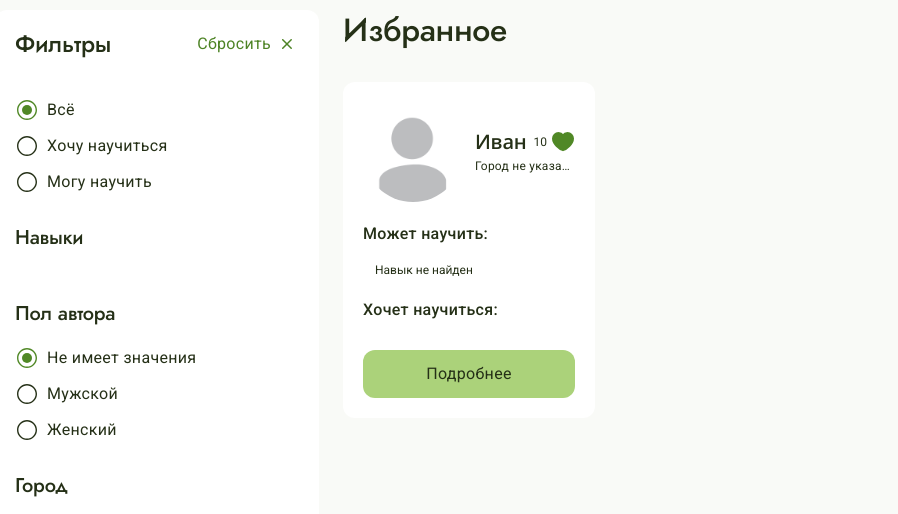
FavoritesPage › после снятия последнего лайка показывает пустое состояние и сохраняет изменение
What coordinates should you click on to do the following:
click the button named "Убрать из избранного"
I would click on:
 (563, 142)
Its box is [551,130,575,154].
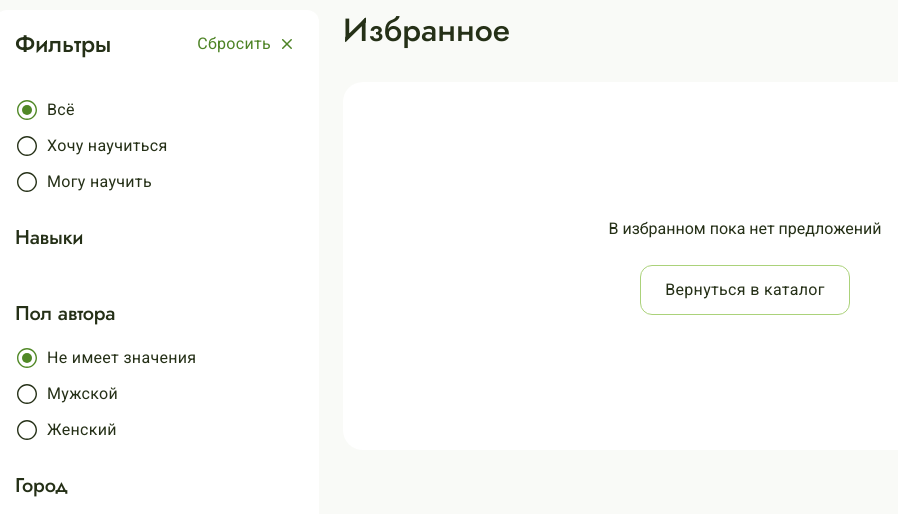
expect the message shows "В избранном пока нет предложений": met, box [608,219,881,238]
